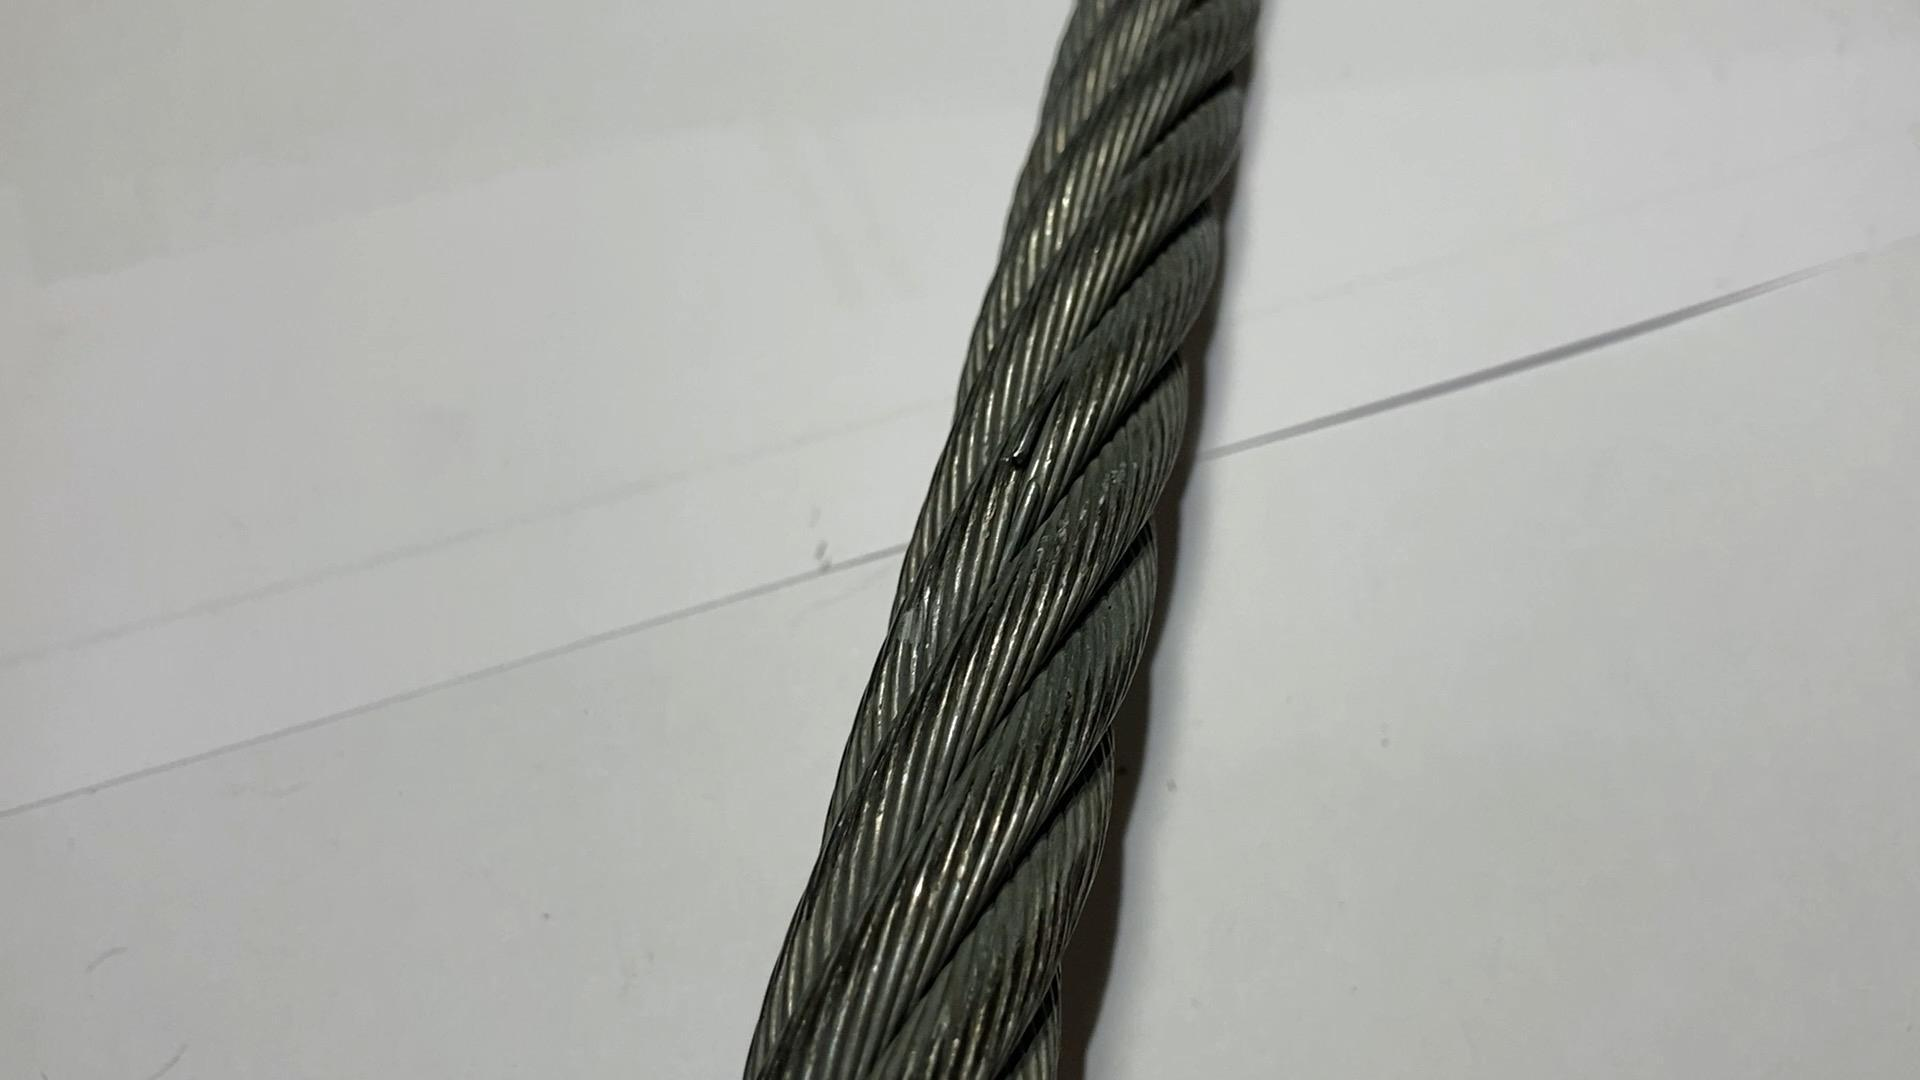break: (1005, 410, 1051, 473)
